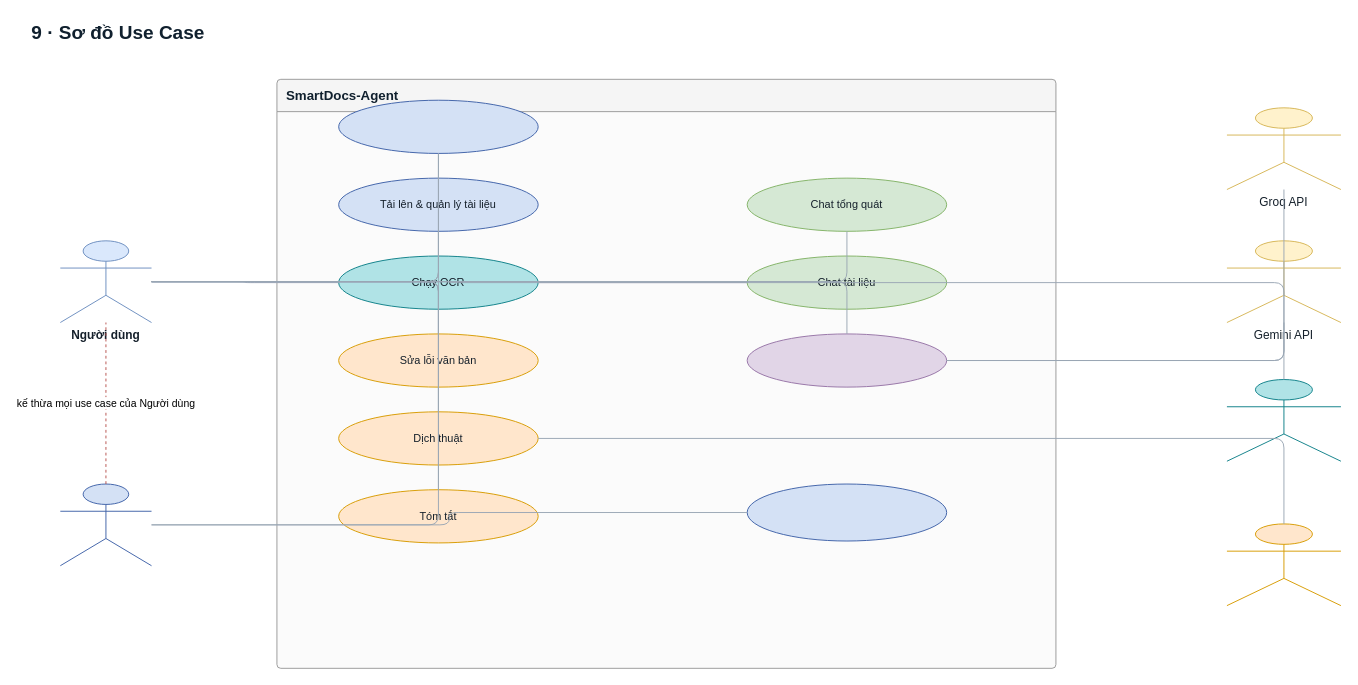
This 1358x685 diagram has some shape labels left out. The shapes that lost their labels are listed below. From the top down, each one's box as (x1, y1, x2, y2) in pixels, then its label:
(338, 99, 538, 153): Đăng nhập
(746, 333, 947, 387): Chạy Agent
(1226, 379, 1341, 461): GLM-OCR MLX server
(59, 483, 152, 566): Quản trị viên
(746, 483, 947, 541): Quản trị hệ thống (người dùng · nhật ký · file)
(1226, 523, 1341, 606): Dịch trực tuyến (Google)
